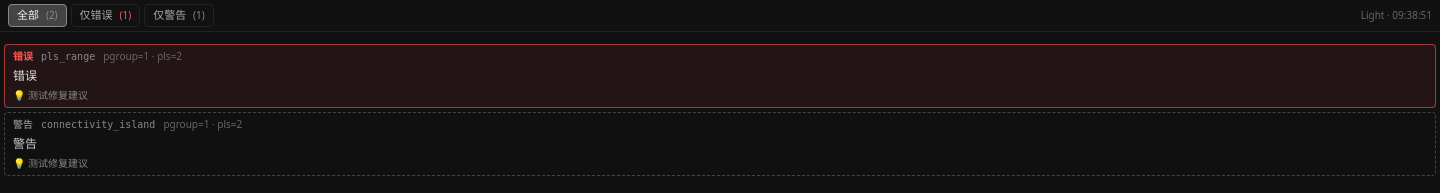
Test case: ValidatePanel › 点击"仅错误"切换 filter
The image size is (1440, 193).
Click the button "仅错误 (1)".
click(105, 15)  # box [71, 4, 140, 26]
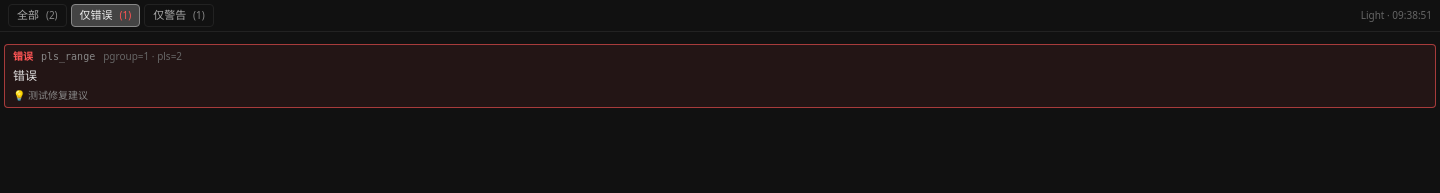
Expected: the list item "错误 pls_range pgroup=1 · pls=2 错误 💡 测试修复建议" is shown, [4, 44, 1436, 108]
Result: the number of list items is 1 at [4, 44, 1436, 108]
